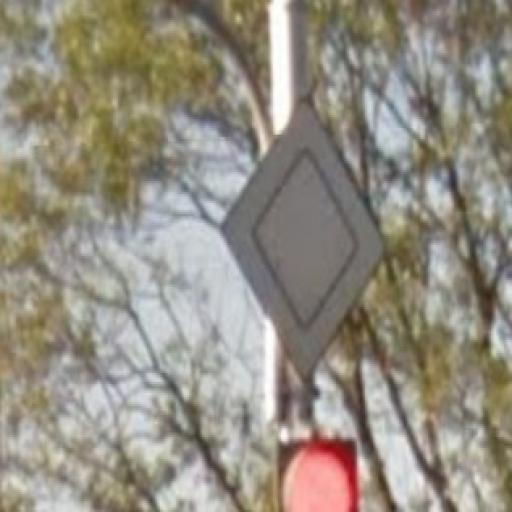traffic_sign: (222, 98, 387, 385)
